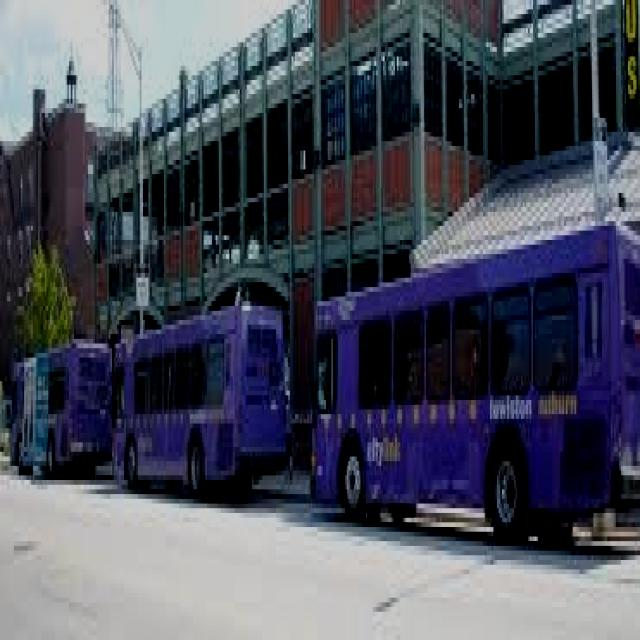bus: (301, 219, 640, 573), (116, 297, 291, 521), (7, 337, 112, 485)
